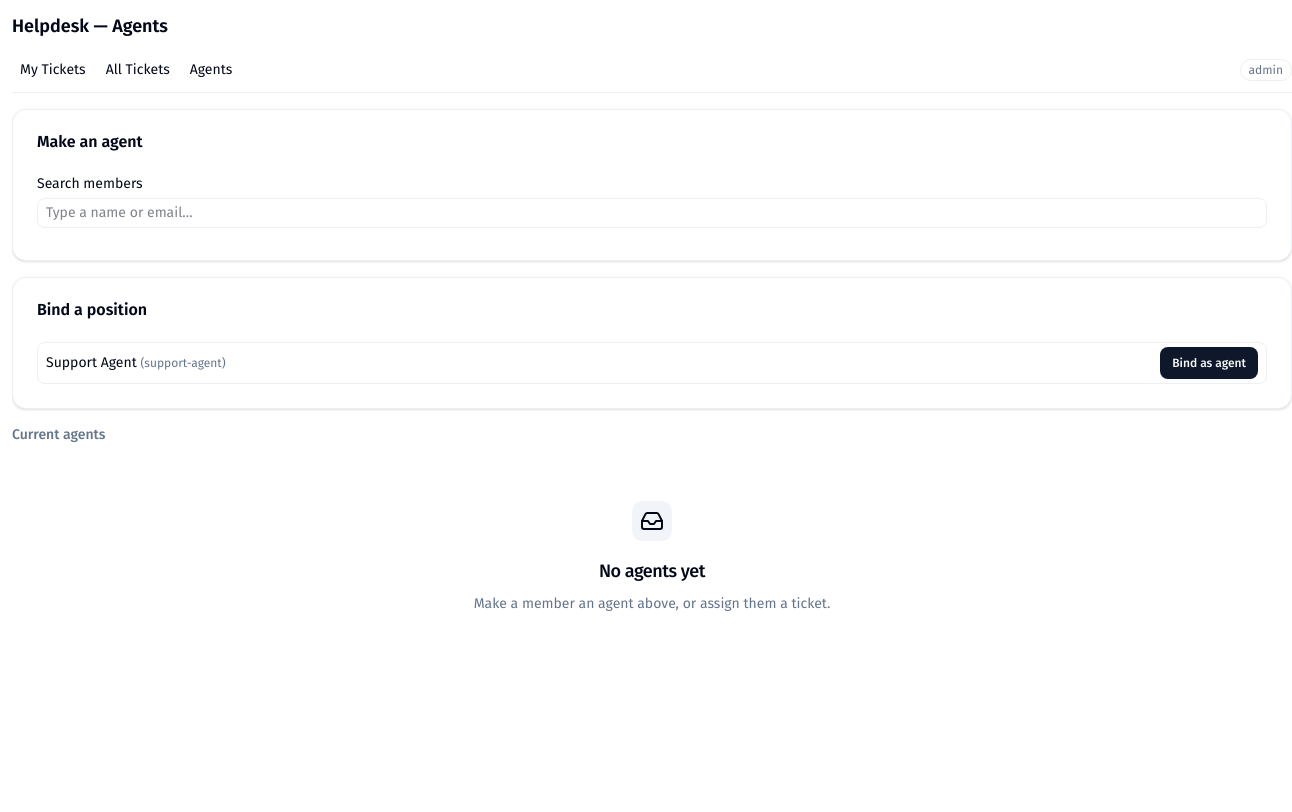
Test: AgentsAdminPage › binds a position as an agent through the position picker
Click the button with test id "helpdesk-bind-position-position-1" at (1209, 363), box [1160,347,1258,379]
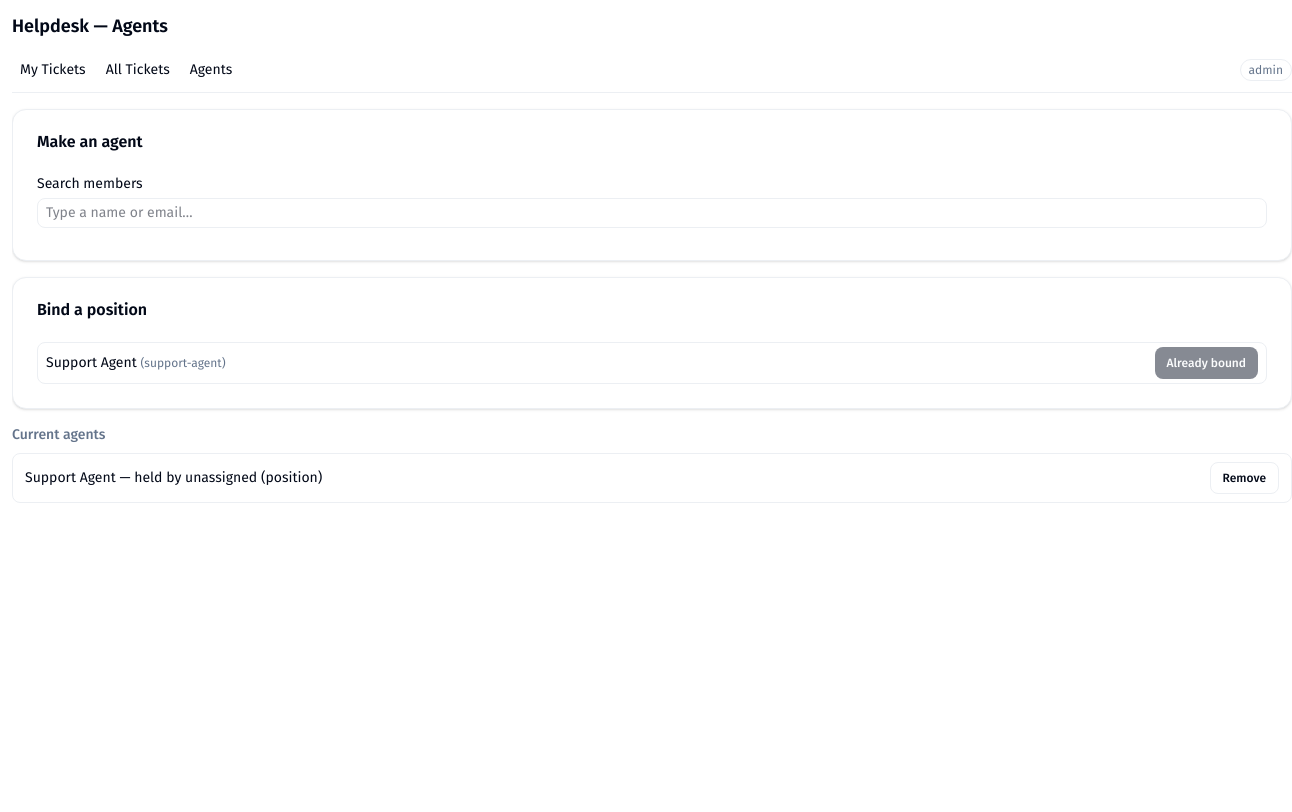
Expected: the list item with test id "helpdesk-agent-position-1" is shown, [12,453,1291,503]
